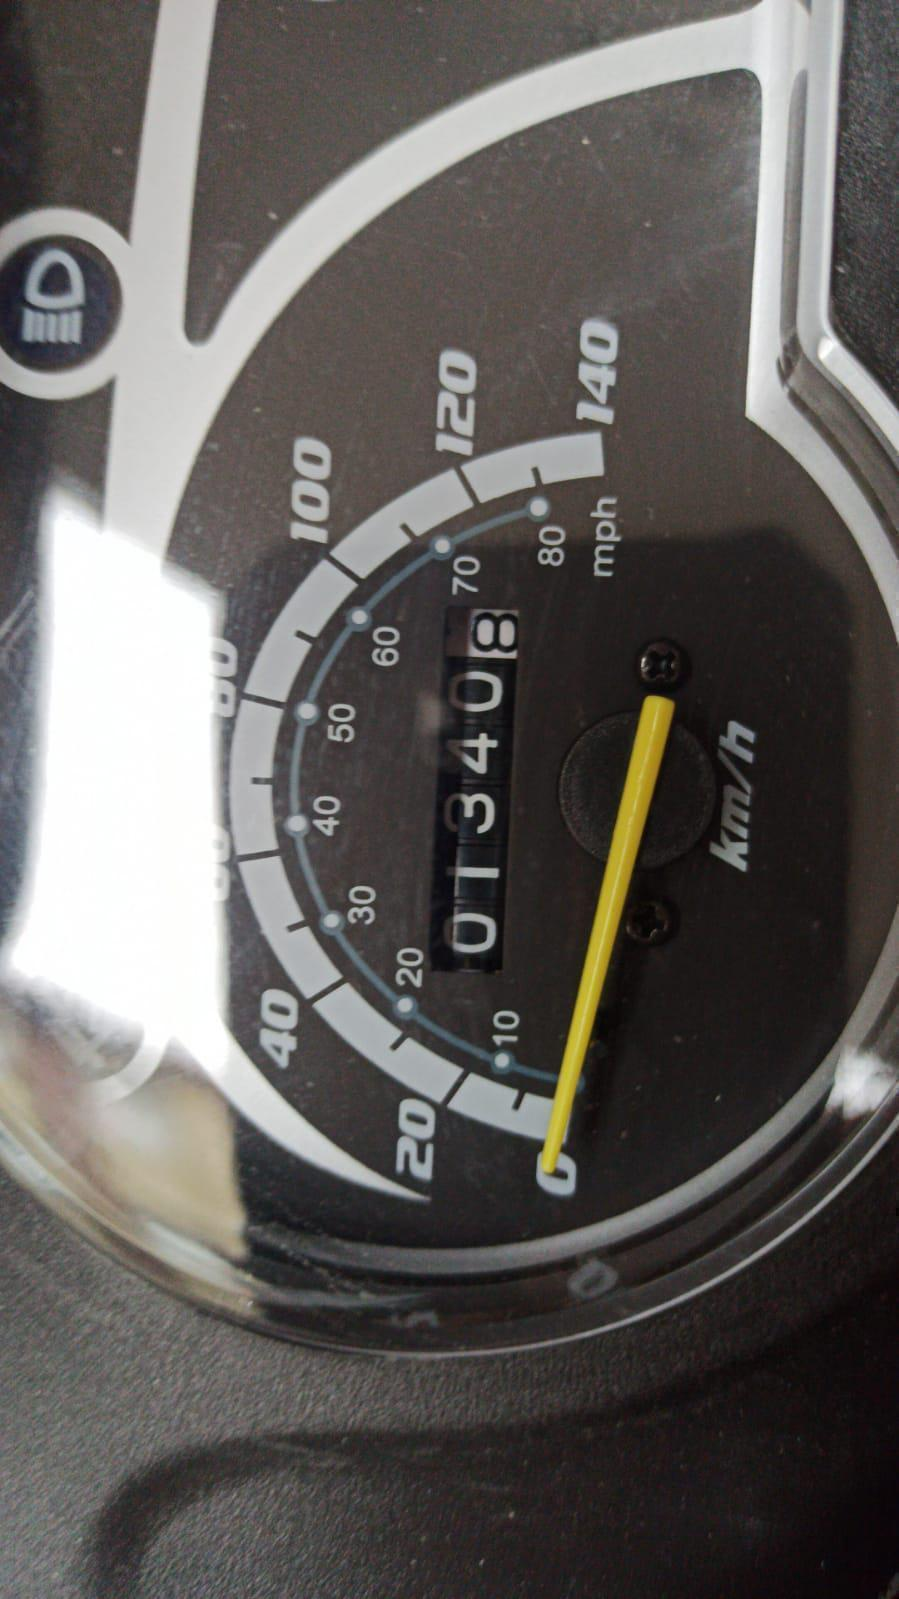0: (445, 669, 506, 715), (443, 909, 498, 953)
1: (440, 857, 502, 884)
3: (442, 791, 499, 836)
4: (445, 731, 501, 775)
8: (468, 610, 517, 653)
odometer: (431, 599, 518, 989)
